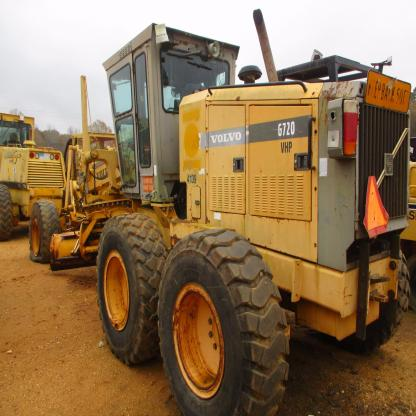bull_dozer/loader/grader: (12, 17, 416, 416)
